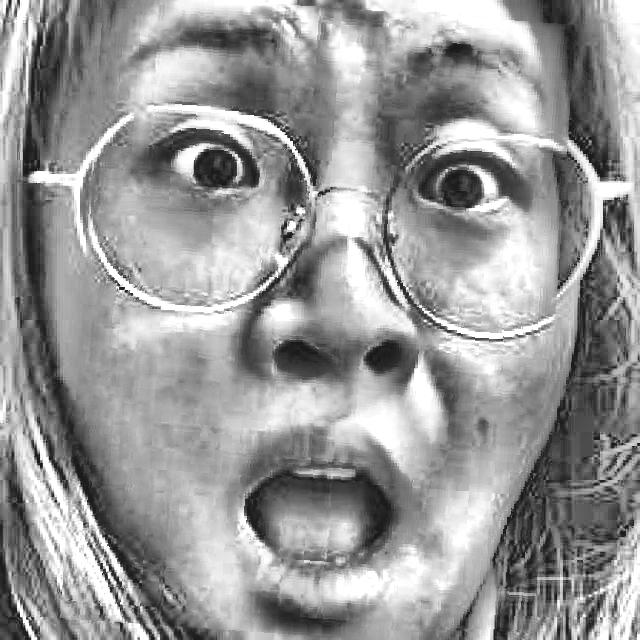fear: (70, 0, 564, 640)
